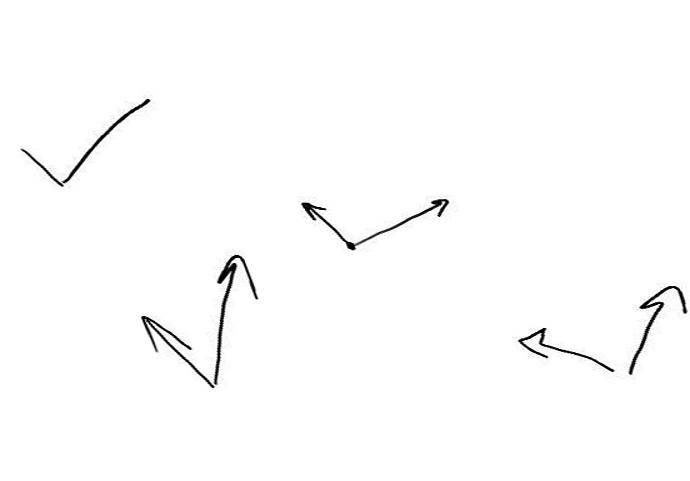arrow: (217, 253, 259, 381), (143, 312, 214, 385), (517, 324, 615, 374), (631, 285, 687, 371), (357, 198, 448, 245), (301, 200, 348, 243)
arrownohead: (58, 98, 149, 181), (16, 146, 63, 185)
